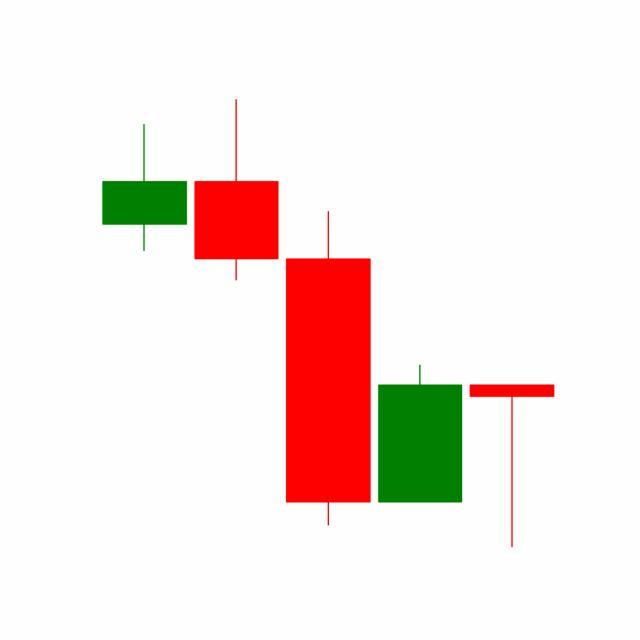Hanging Man: (466, 383, 559, 551)
